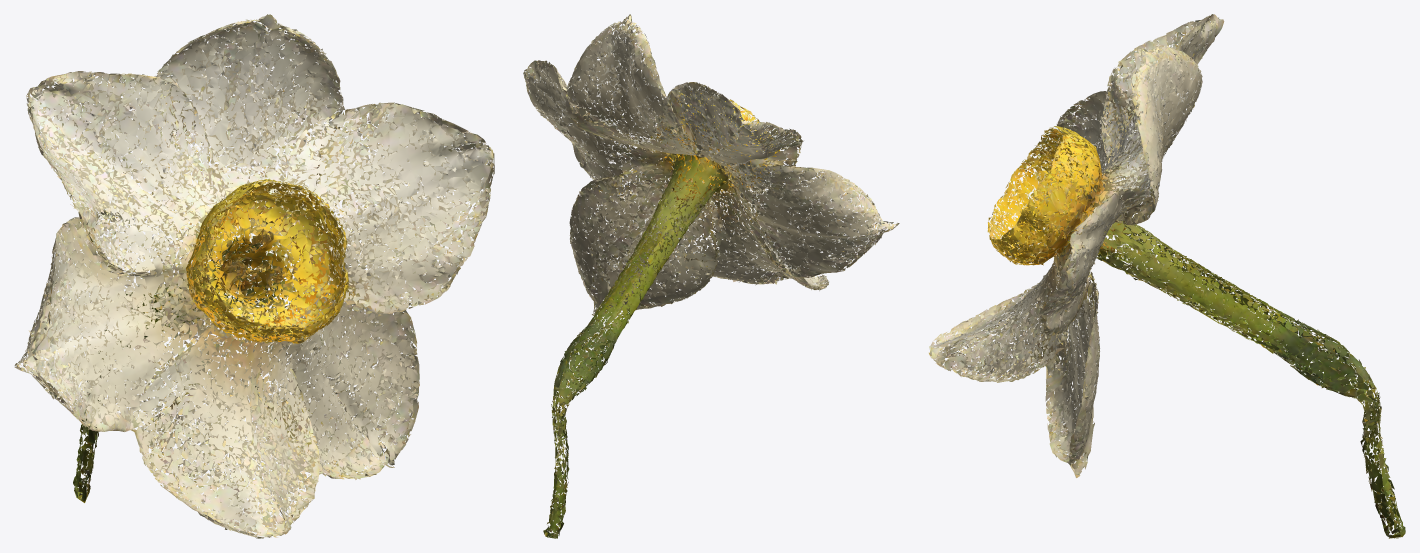
The model's file is narcissus.glb.
The picture shows the model from 3 angles, left to right: view 1: azimuth 30°, elevation 25°; view 2: azimuth 150°, elevation 25°; view 3: azimuth 270°, elevation 25°; orthographic projection. The views are drawn at different scales.
Parts seen in each view (by area): view 1: Object_11; view 2: Object_11; view 3: Object_11.
Part boxes in pixels (x1,y1,x2,y2): Object_11: (14,14,494,538); Object_11: (523,14,899,538); Object_11: (929,14,1405,538).
Bounding box in the file's own units: 0.1783 × 0.2026 × 0.1723.
1 material, 1 textured.
